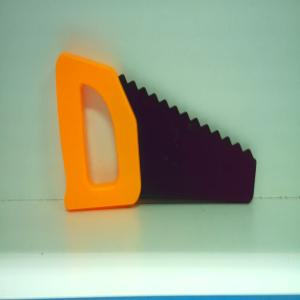serrote: (55, 51, 258, 213)
